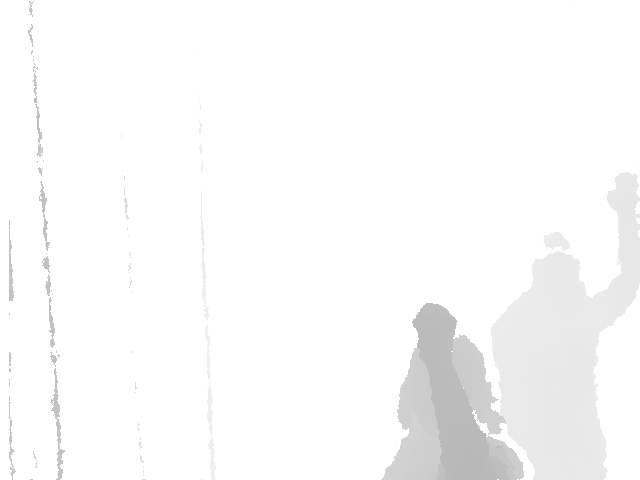hand: (411, 303, 458, 354), (606, 174, 640, 218)
head: (396, 334, 492, 432), (530, 231, 581, 318)
person: (487, 174, 640, 480), (375, 303, 526, 480)
